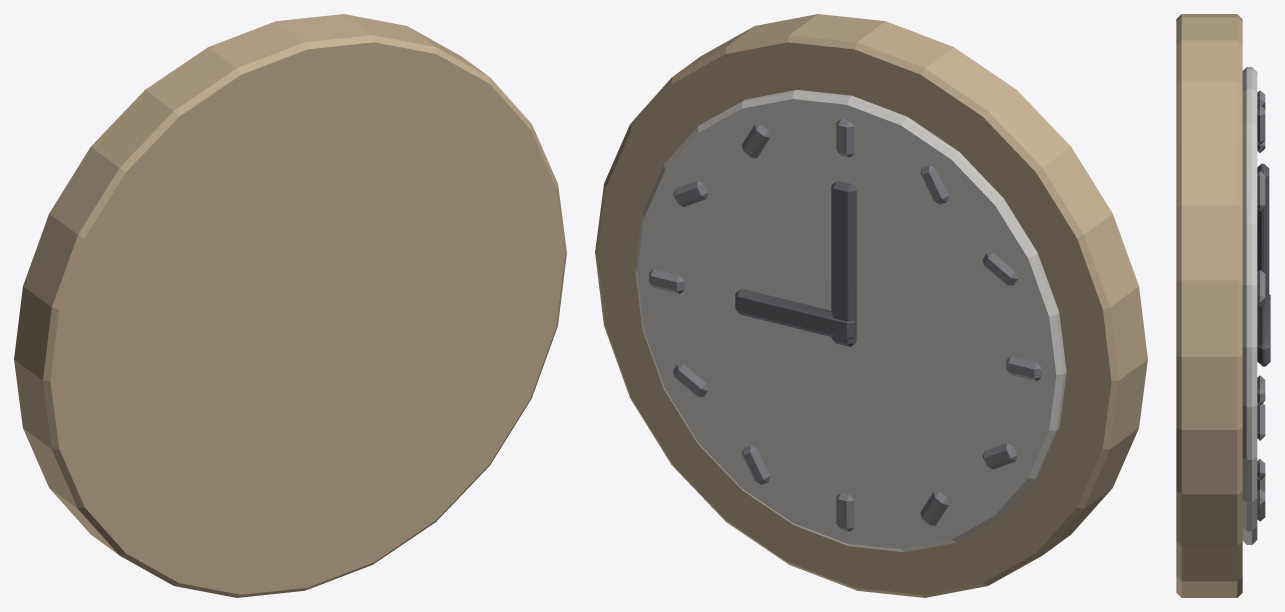
Rendered from furn_wall_clock__oak.glb.
The picture shows the model from 3 angles, left to right: view 1: azimuth 30°, elevation 25°; view 2: azimuth 150°, elevation 25°; view 3: azimuth 270°, elevation 25°; orthographic projection. The views are drawn at different scales.
Size of the model in its own units: 0.44 by 0.44 by 0.071.
